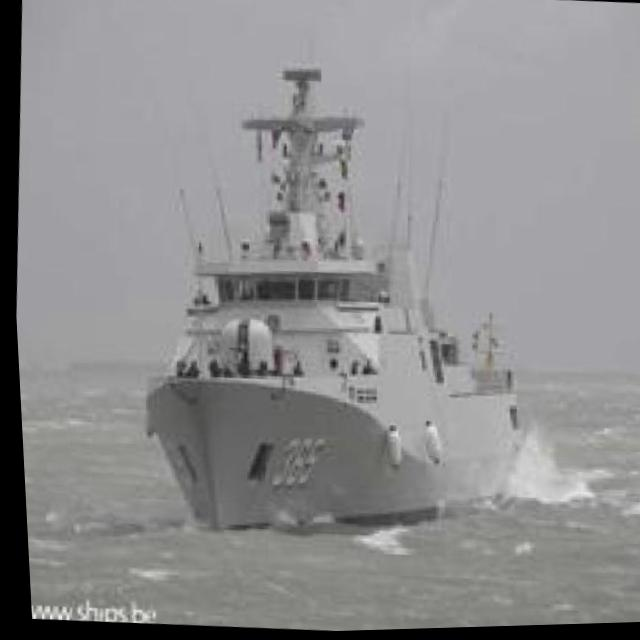ship2: (138, 69, 517, 538)
